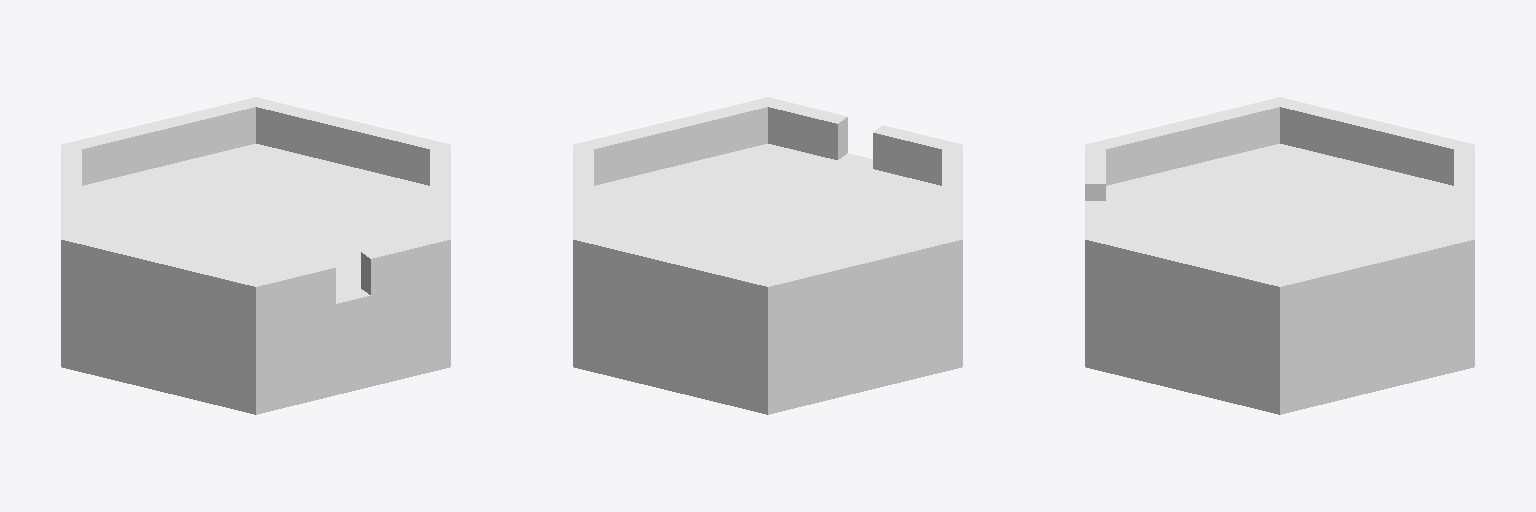
The model's file is Room.obj.
3 views of the same model, side by side, from view 1: azimuth 30°, elevation 25°; view 2: azimuth 150°, elevation 25°; view 3: azimuth 270°, elevation 25° (orthographic).
Visible parts, largest first — view 1: Room; view 2: Room; view 3: Room.
Part boxes in pixels (left/top/right/bottom): Room: left=61, top=97, right=450, bottom=414; Room: left=573, top=97, right=962, bottom=414; Room: left=1085, top=97, right=1474, bottom=414.
Bounding box in the file's own units: 22.31 × 7 × 19.32.